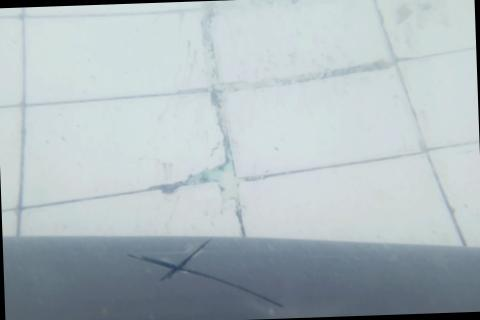keretakan: (124, 236, 287, 320)
